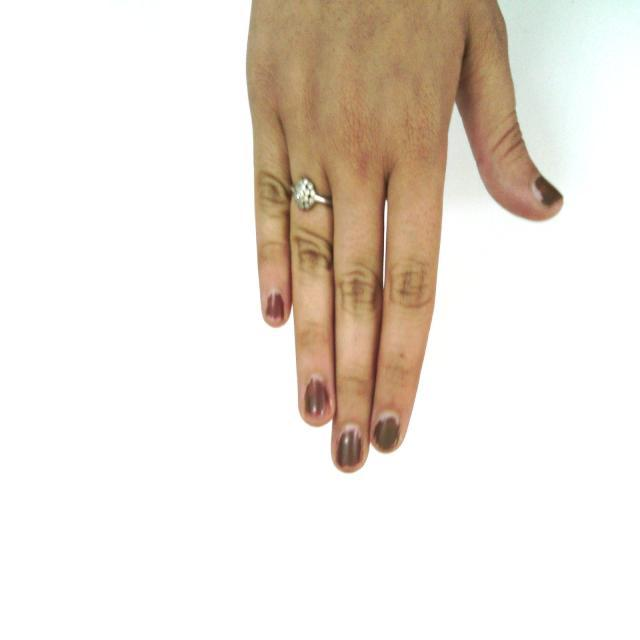Fingernail: (338, 425, 362, 468), (374, 415, 399, 452), (305, 378, 326, 415), (535, 177, 561, 205), (265, 293, 283, 321)
